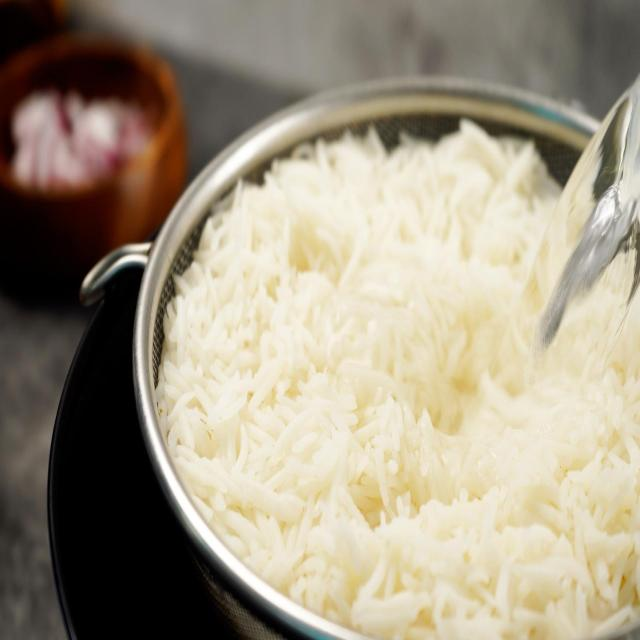rice: (158, 141, 640, 639)
